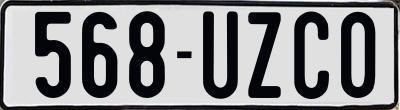0: (338, 9, 373, 98)
5: (32, 11, 74, 101)
6: (82, 10, 122, 100)
8: (126, 9, 162, 101)
C: (294, 10, 331, 102)
U: (200, 10, 240, 101)
Z: (245, 9, 281, 100)
